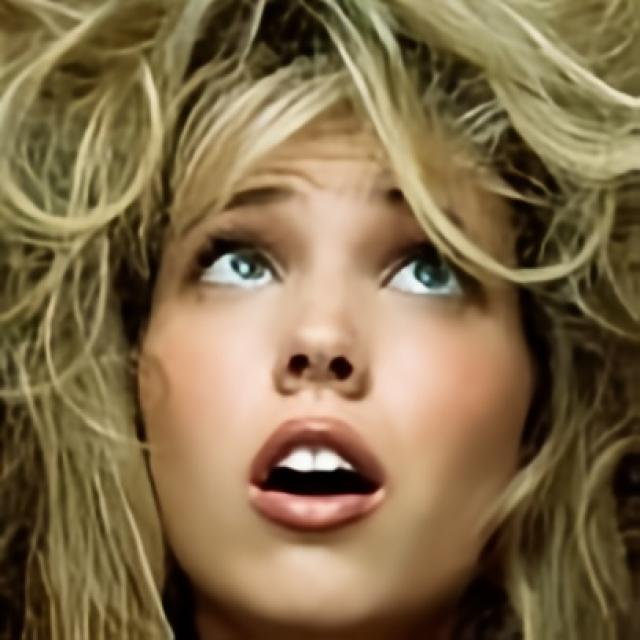surprise: (136, 88, 540, 621)
